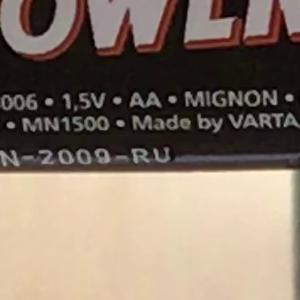1,5V: (54, 84, 114, 118)
